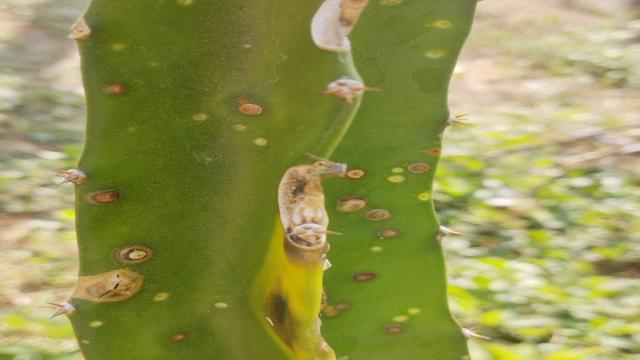stemcanker: (231, 93, 269, 119), (82, 186, 125, 208), (388, 300, 426, 322), (335, 194, 369, 215), (96, 81, 132, 97), (365, 205, 394, 223), (430, 16, 458, 34), (370, 226, 401, 242), (166, 326, 190, 346), (148, 290, 176, 307), (380, 321, 409, 337), (353, 269, 380, 285), (208, 296, 232, 314), (344, 166, 368, 182), (406, 161, 433, 175), (420, 48, 449, 61), (366, 240, 388, 256), (250, 134, 273, 148), (414, 188, 432, 205), (82, 318, 106, 330), (380, 176, 410, 185), (188, 112, 212, 122), (230, 122, 249, 134), (386, 164, 406, 174)
